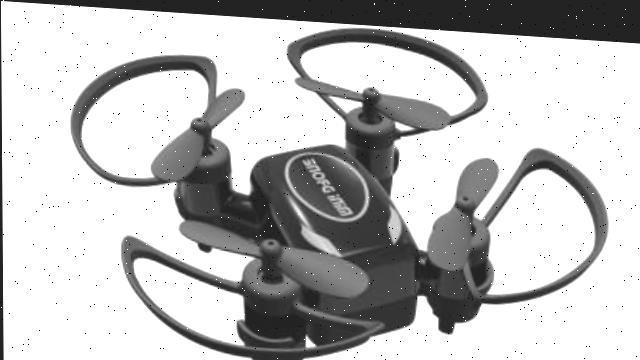drone: (57, 3, 617, 360)
